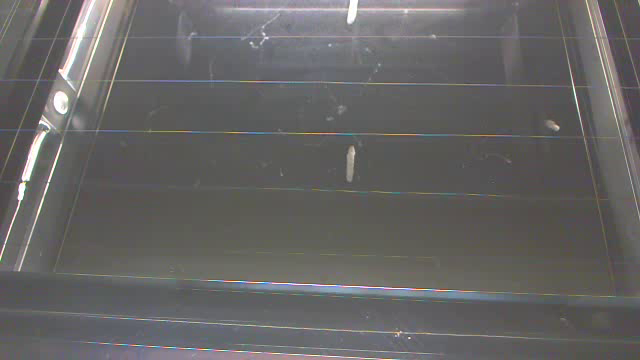Alfa: (345, 136, 355, 188), (344, 1, 361, 30)
